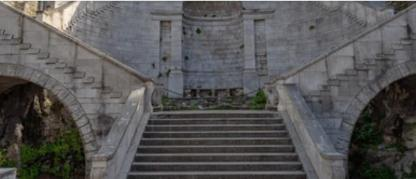stair: (149, 95, 292, 179)
